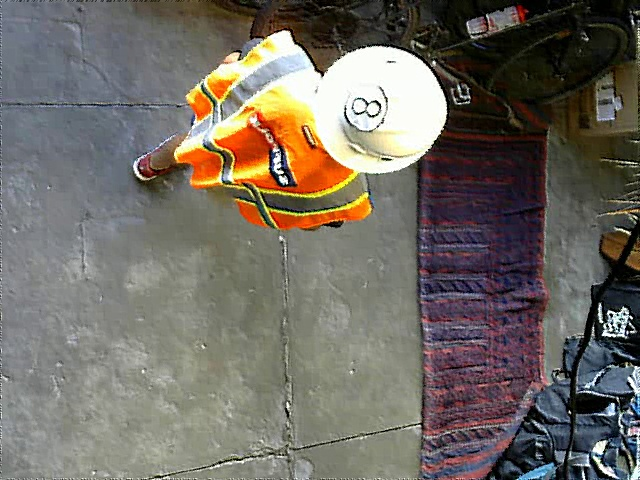eight: (343, 81, 389, 131)
